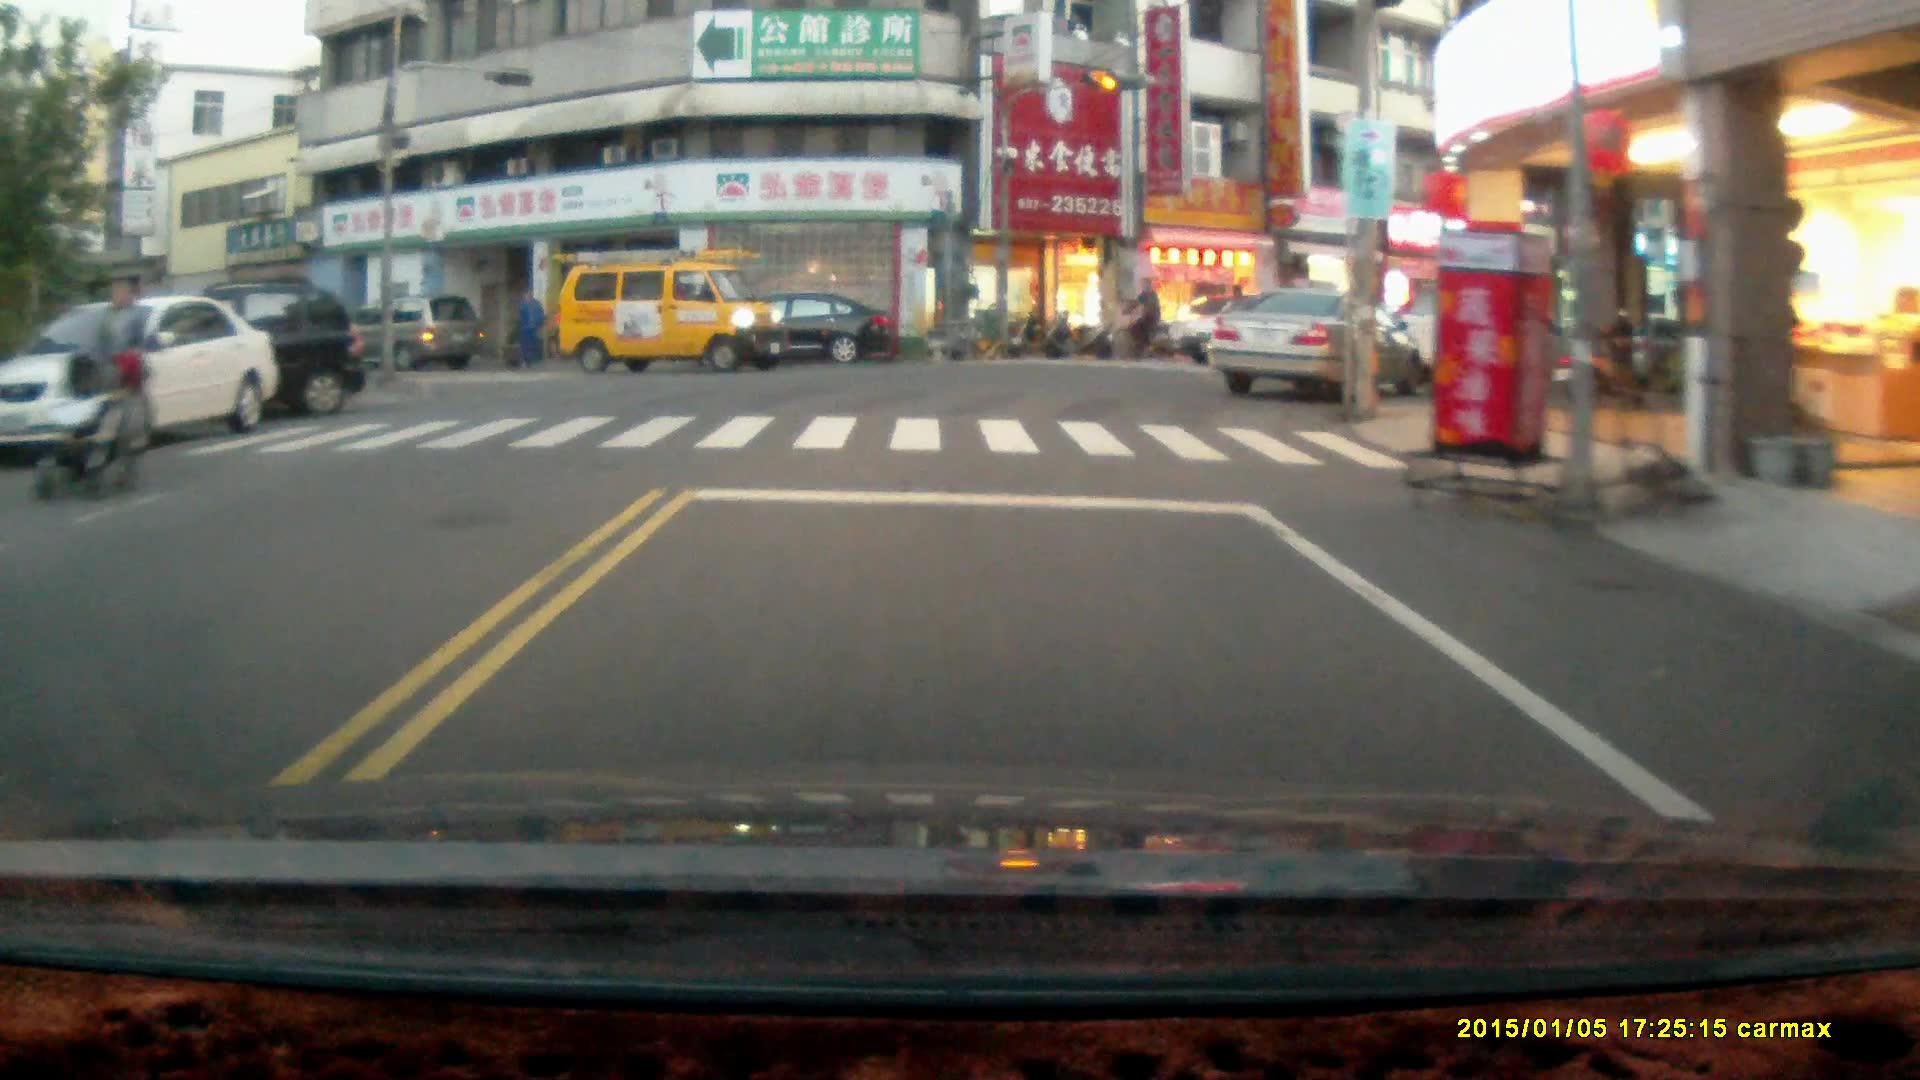pedestrian: (89, 282, 144, 473), (513, 287, 543, 368)
rider: (30, 344, 143, 504), (1107, 274, 1169, 362)
vehicle: (70, 276, 369, 420), (10, 295, 267, 453), (553, 243, 790, 372), (1206, 286, 1420, 400), (1386, 286, 1601, 396), (716, 294, 890, 370), (340, 294, 480, 375)
